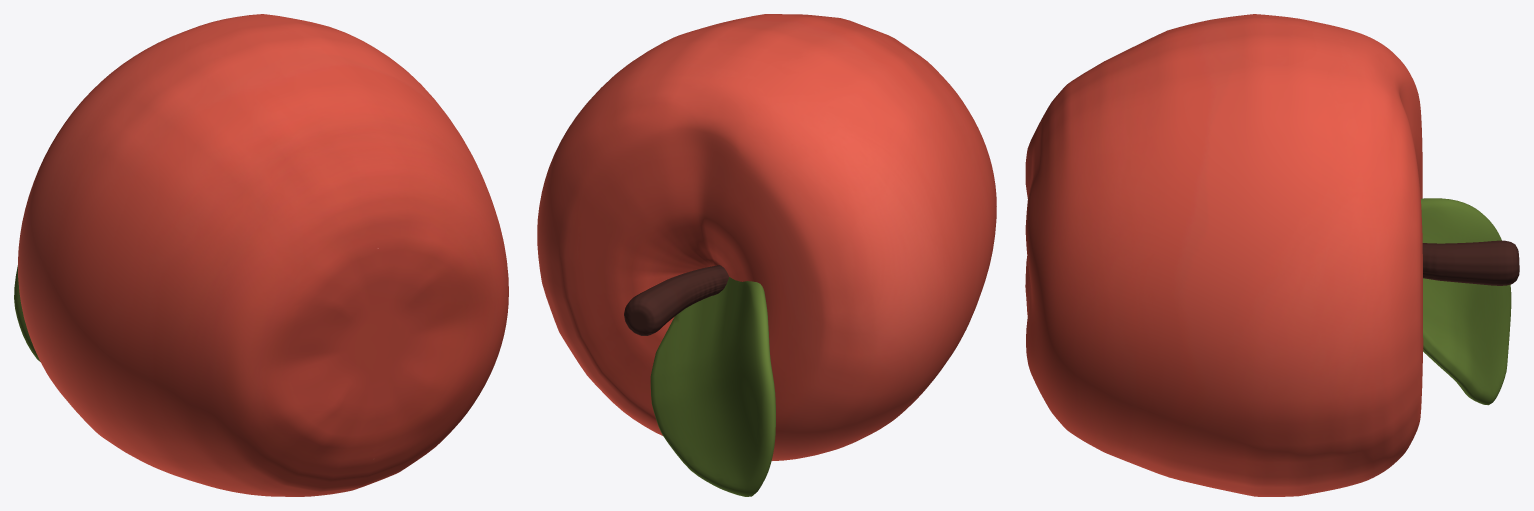
The model's file is AppleFBX.fbx.
The picture shows the model from 3 angles, left to right: view 1: azimuth 30°, elevation 25°; view 2: azimuth 150°, elevation 25°; view 3: azimuth 270°, elevation 25°; orthographic projection. The views are drawn at different scales.
Parts seen in each view (by area): view 1: apple_whole; view 2: apple_whole; view 3: apple_whole.
Part boxes in pixels (<box>): apple_whole: <box>14,14,508,496</box>; apple_whole: <box>537,14,996,496</box>; apple_whole: <box>1025,14,1519,496</box>.
Bounding box in the file's own units: 221 × 214 × 214.
